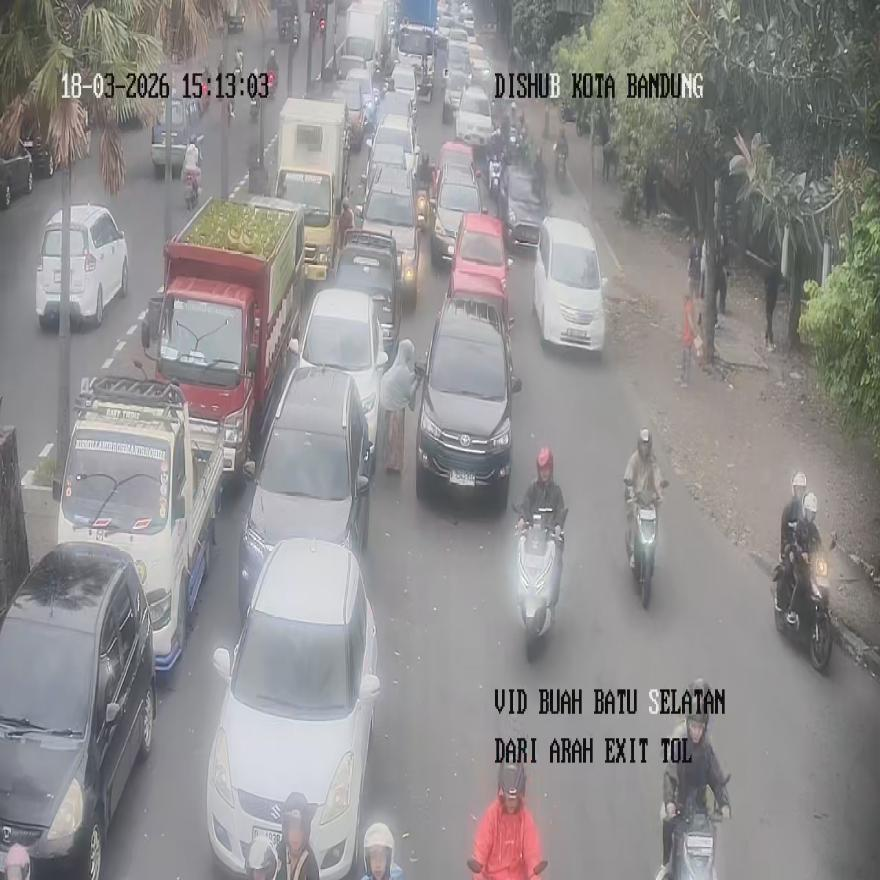Motor: (205, 539, 379, 879), (0, 542, 155, 877), (53, 374, 223, 676), (238, 365, 373, 624), (414, 275, 520, 502), (290, 286, 389, 461), (275, 95, 351, 280), (35, 202, 128, 328), (532, 215, 605, 350)
Truk: (773, 534, 832, 672), (514, 502, 564, 660), (661, 770, 729, 880), (627, 480, 665, 608), (466, 858, 547, 880), (183, 163, 200, 210), (486, 156, 502, 200), (250, 97, 258, 122)
